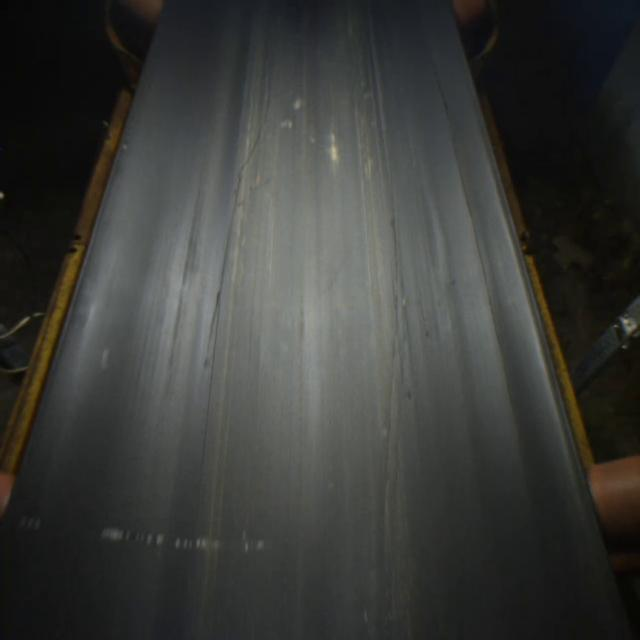Tear: (426, 55, 538, 521), (200, 67, 280, 371)
